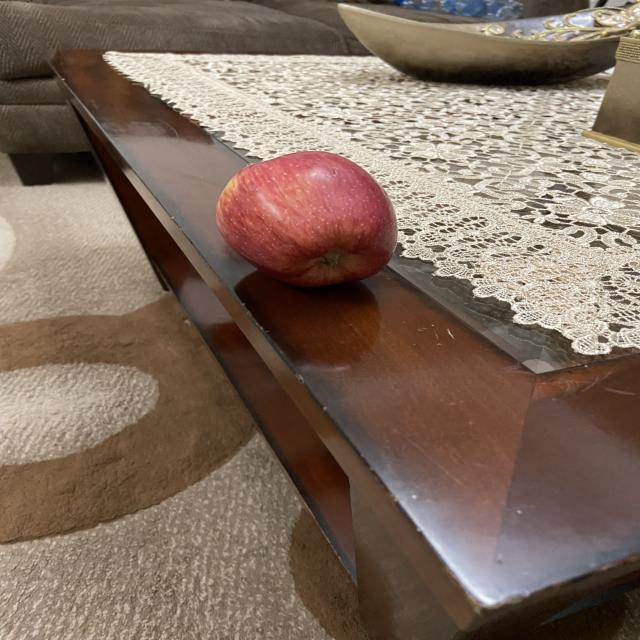apple: (215, 144, 402, 290)
